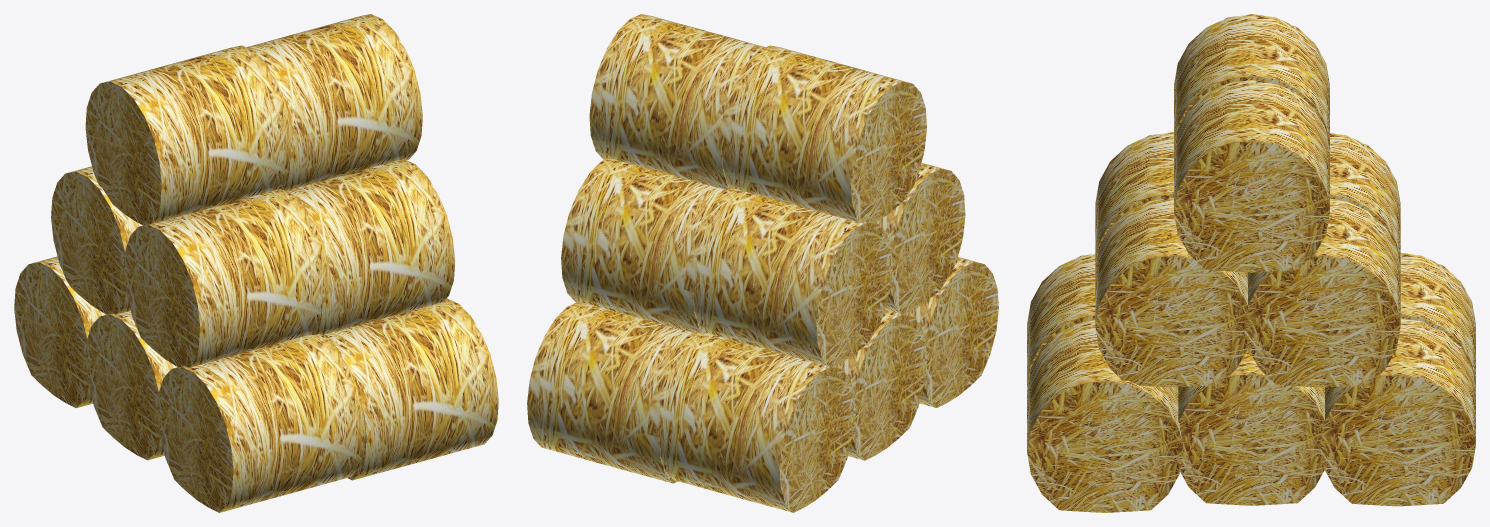
Rendered from haybale_round_big.fbx.
The picture shows the model from 3 angles, left to right: view 1: azimuth 30°, elevation 25°; view 2: azimuth 150°, elevation 25°; view 3: azimuth 270°, elevation 25°; orthographic projection. The views are drawn at different scales.
Parts seen in each view (by area): view 1: pCylinder15; view 2: pCylinder15; view 3: pCylinder15.
Part boxes in pixels (x1,y1,x2,y2): pCylinder15: [14, 14, 498, 512]; pCylinder15: [527, 14, 998, 512]; pCylinder15: [1027, 14, 1475, 512].
Bounding box in the file's own units: 67.51 × 87.77 × 95.37.
